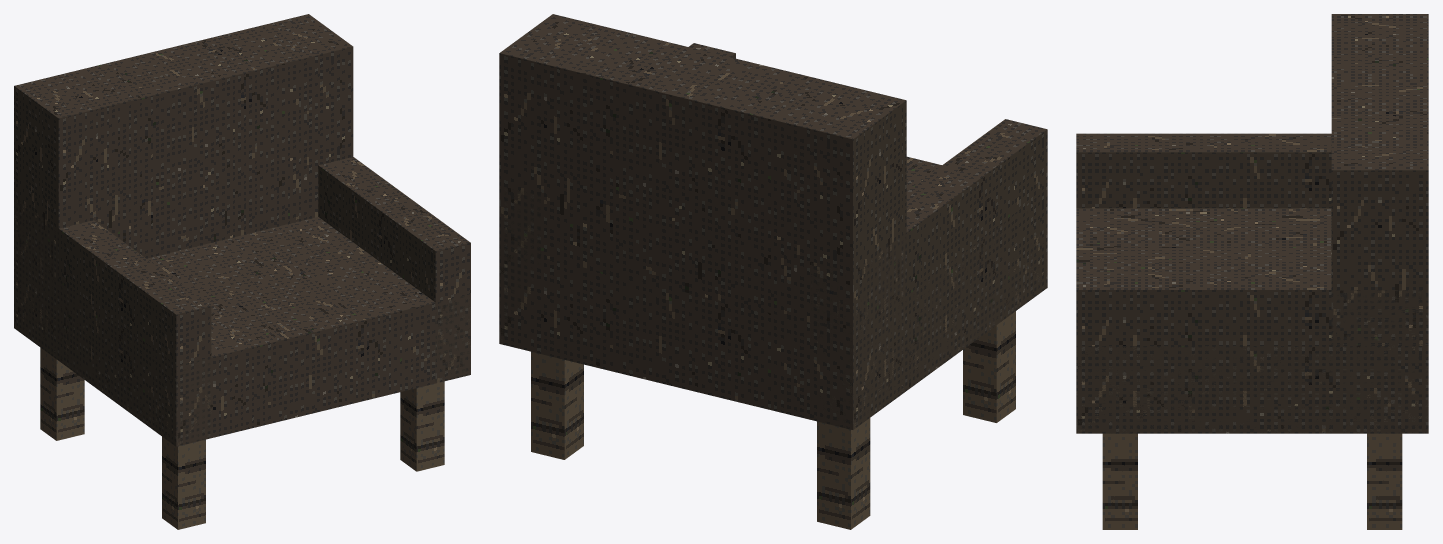
The model's file is SM_Prop_Armchair_01.glb.
The picture shows the model from 3 angles, left to right: view 1: azimuth 30°, elevation 25°; view 2: azimuth 150°, elevation 25°; view 3: azimuth 270°, elevation 25°; orthographic projection. The views are drawn at different scales.
Visible parts, largest first — view 1: SM_Prop_Armchair_01; view 2: SM_Prop_Armchair_01; view 3: SM_Prop_Armchair_01.
Part boxes in pixels (x1,y1,x2,y2): SM_Prop_Armchair_01: (14,14,470,529); SM_Prop_Armchair_01: (499,14,1047,529); SM_Prop_Armchair_01: (1076,14,1428,529).
Size of the model in its own units: 0.84 by 0.92 by 0.8.
Materials: 1 (1 with a texture image).
